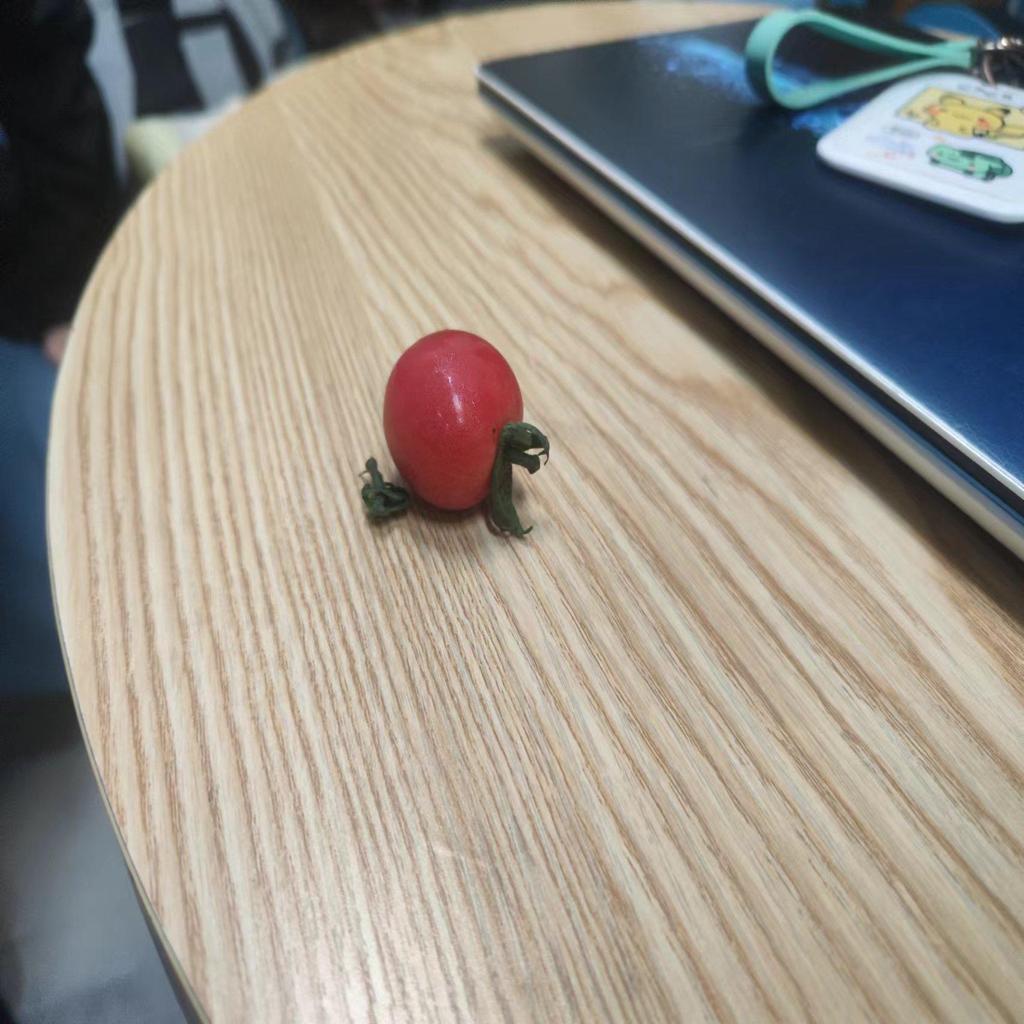tomato: (351, 330, 540, 532)
